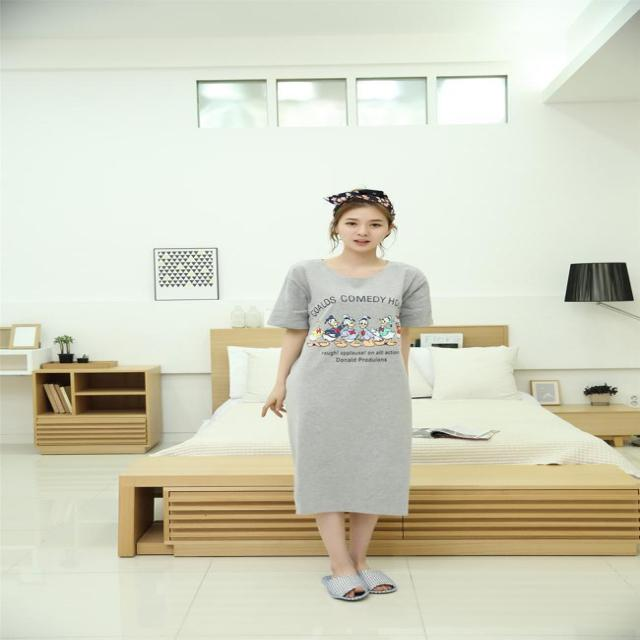short sleeve dress: (267, 259, 433, 515)
